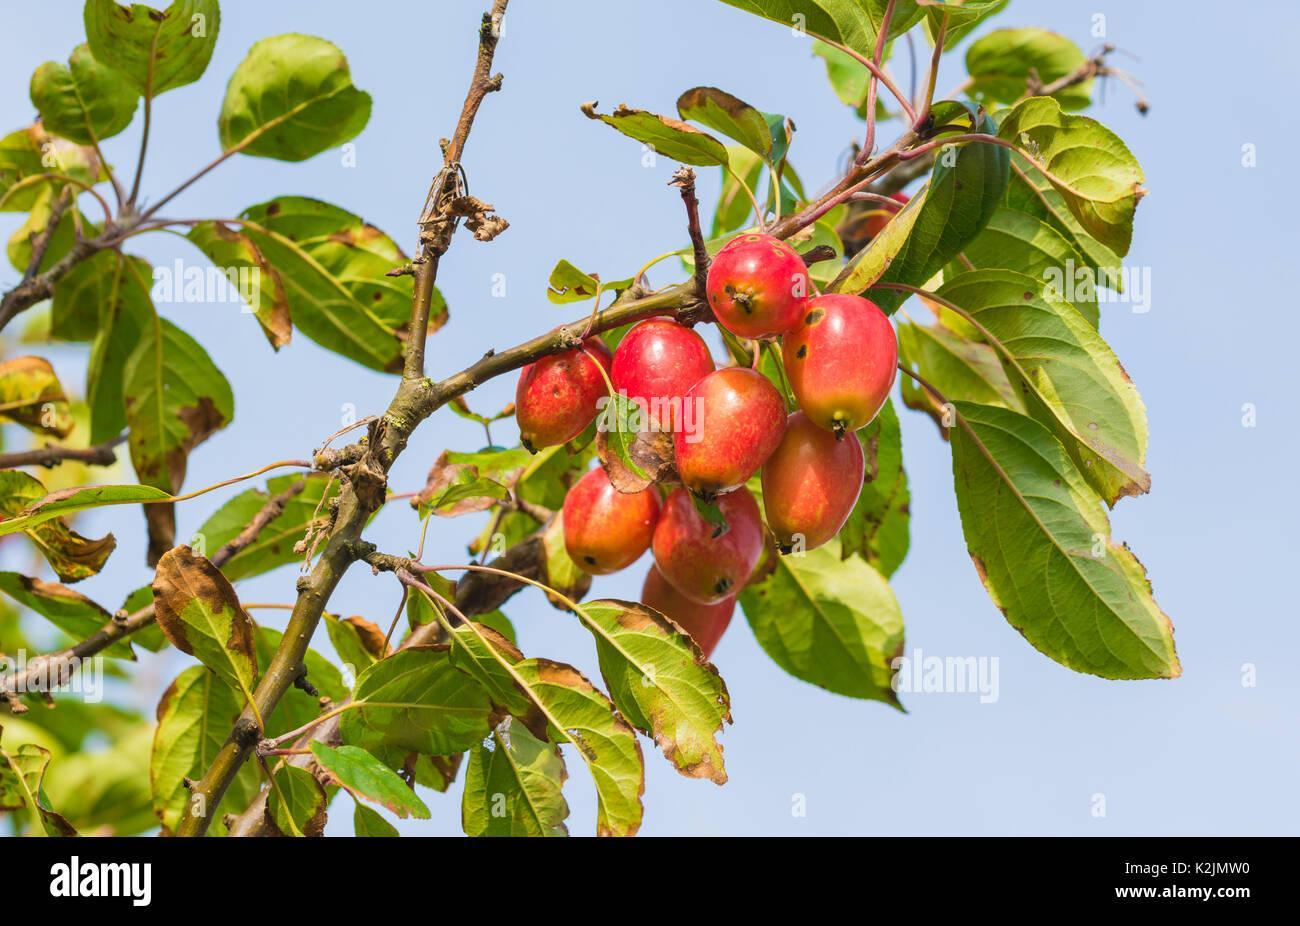apple: (666, 359, 788, 491), (778, 298, 900, 430), (757, 411, 867, 551), (648, 485, 762, 609), (514, 339, 615, 450), (703, 230, 805, 340), (560, 465, 658, 577), (612, 317, 715, 399)
